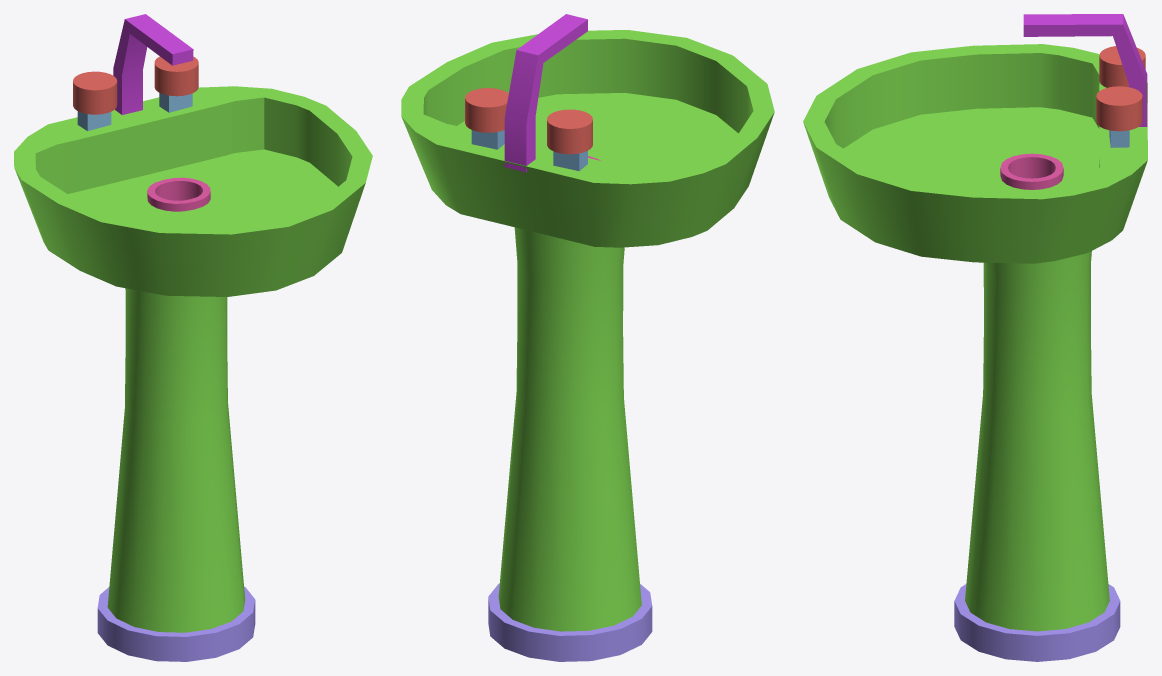
The model's file is 2 sink.fbx.
The picture shows the model from 3 angles, left to right: view 1: azimuth 30°, elevation 25°; view 2: azimuth 150°, elevation 25°; view 3: azimuth 270°, elevation 25°; orthographic projection. The views are drawn at different scales.
Parts seen in each view (by area): view 1: 2 sink; view 2: 2 sink; view 3: 2 sink.
Part boxes in pixels (x1,y1,x2,y2): 2 sink: [14, 14, 372, 661]; 2 sink: [401, 14, 774, 661]; 2 sink: [803, 14, 1147, 661].
Bounding box in the file's own units: 40.8 × 74.47 × 38.31.
